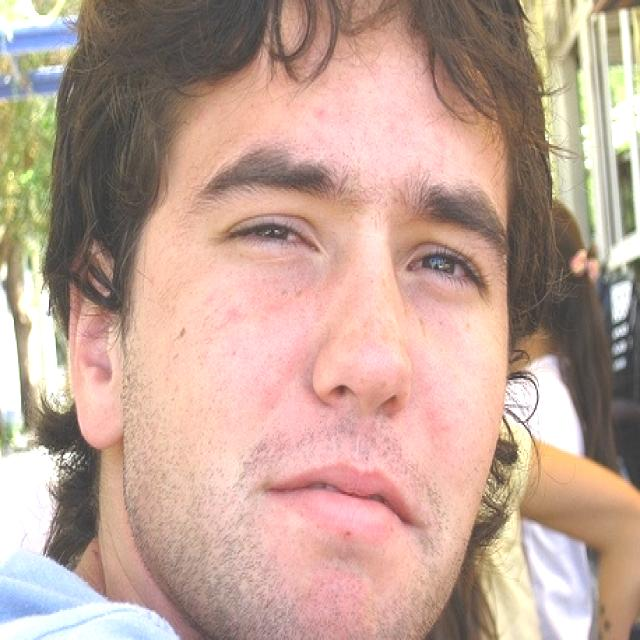piel: (64, 0, 512, 640)
